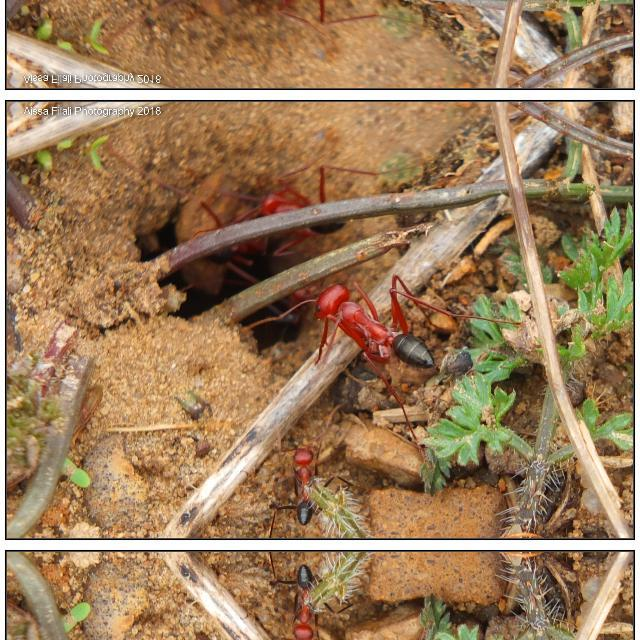Cataglyphis: (287, 268, 467, 384), (242, 168, 390, 258), (172, 200, 286, 280), (266, 436, 348, 532), (266, 556, 348, 640), (241, 0, 388, 18)
